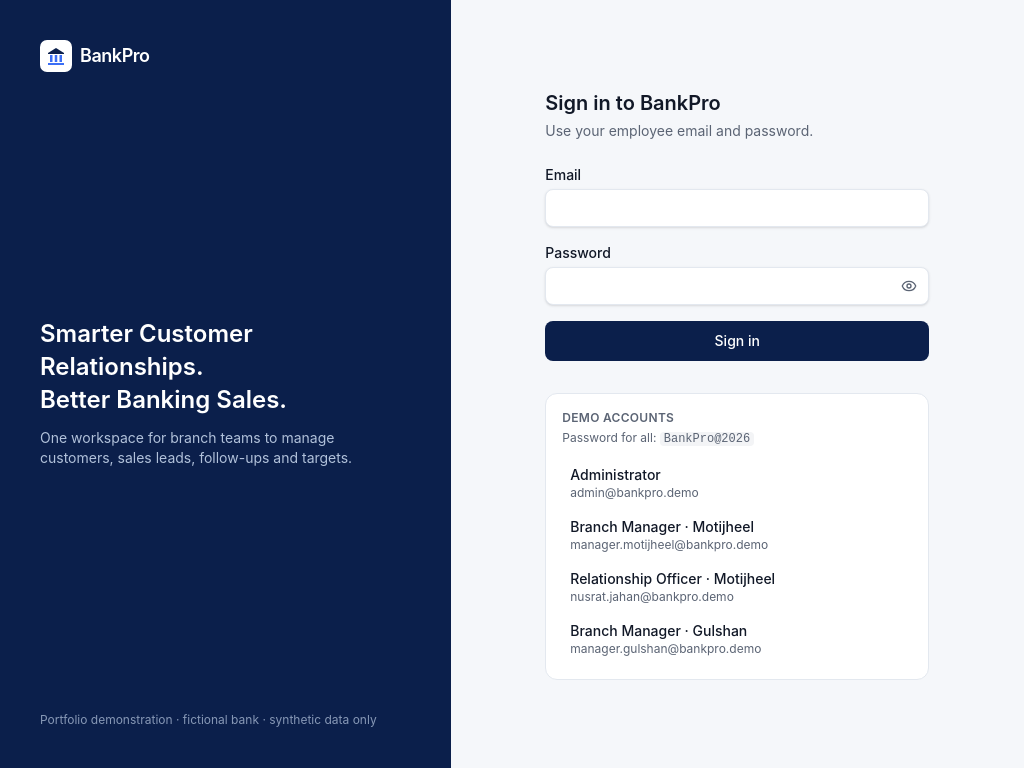
Test case: LoginPage › shows the server message when credentials are rejected
The width and height of the screenshot is (1024, 768).
Type "nusrat.jahan@bankpro.demo" into the field labelled "Email" at [737, 208], box [545,188,929,226]
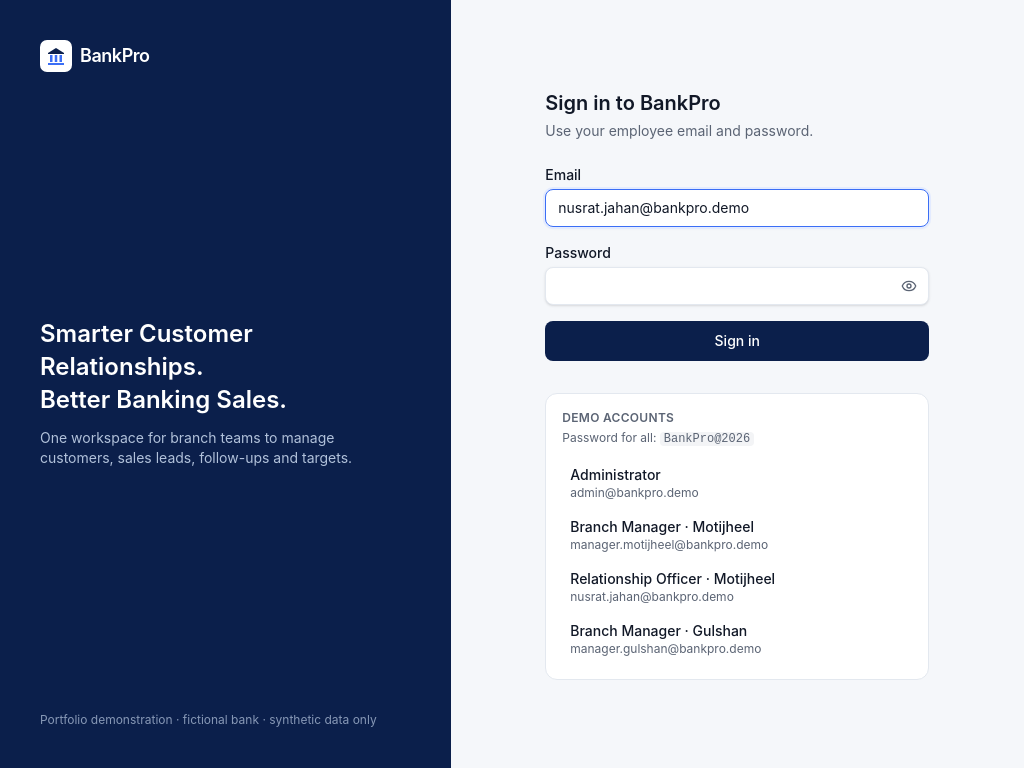
Type "wrong" into the password field labelled "Password" at [737, 286], box [545,266,929,304]
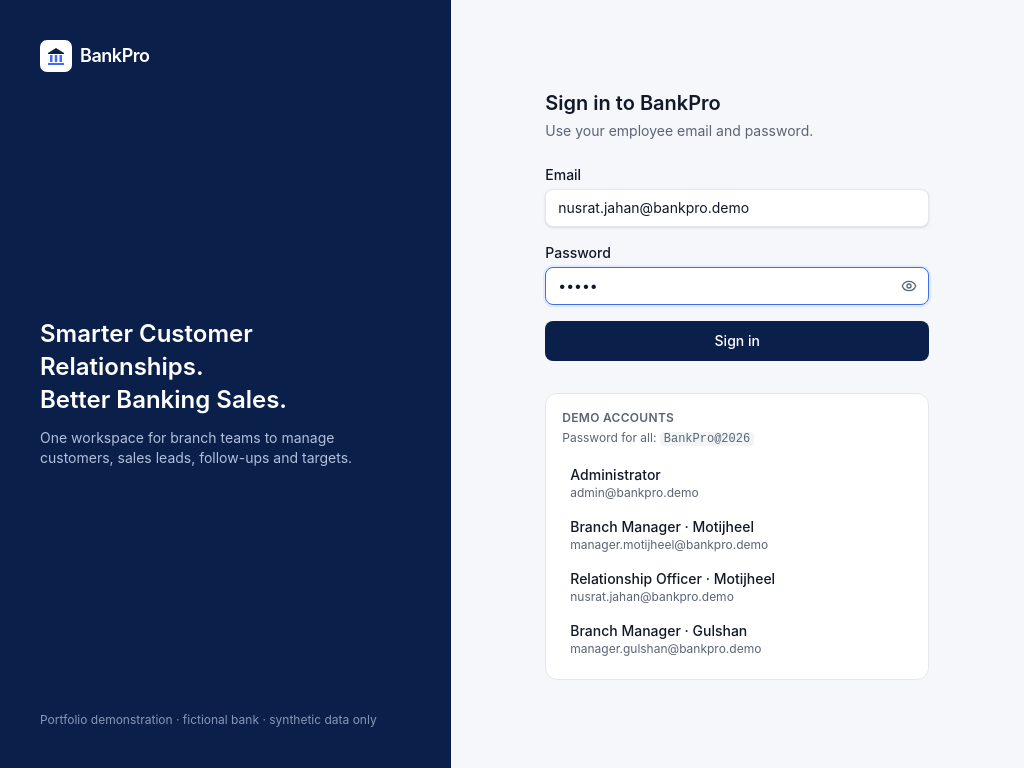
Click the button "Sign in" at [737, 340], box [545,320,929,360]
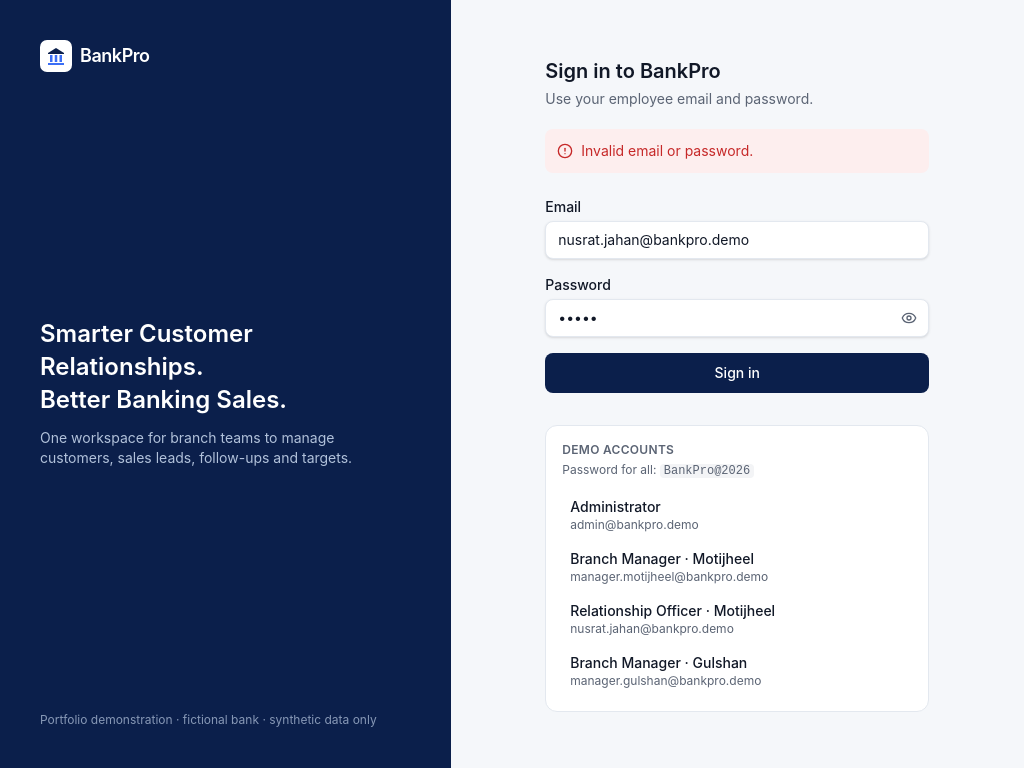
Now the message reads "Invalid email or password.", box [581,142,753,158]
